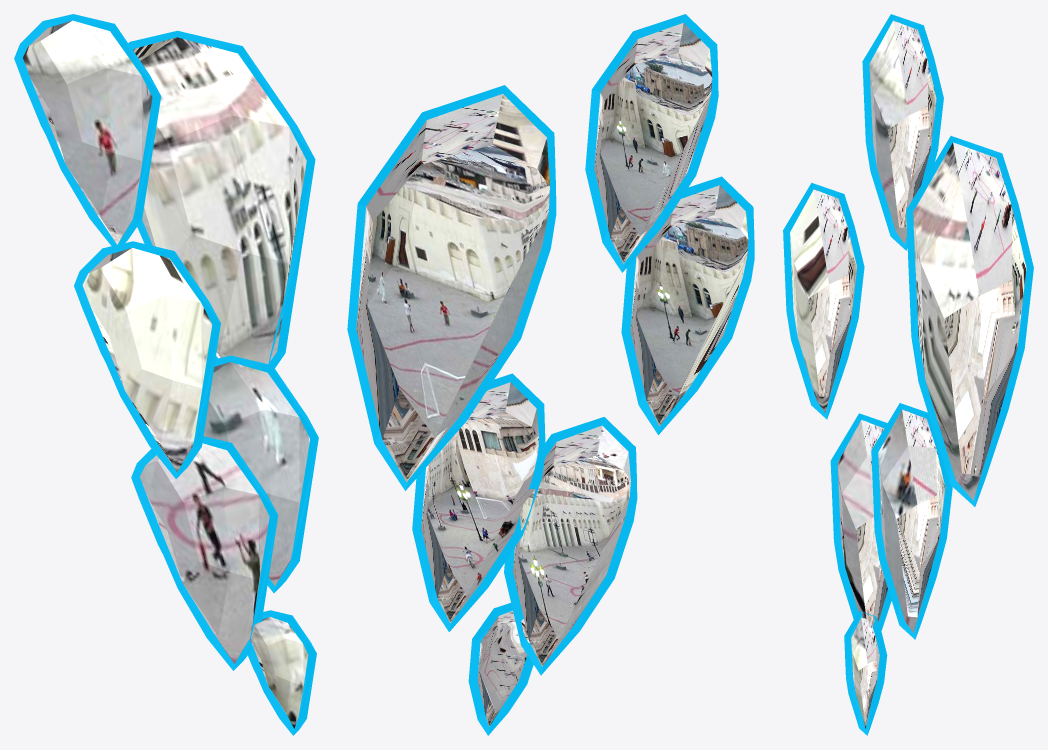
Rendered from Adaptive_Re-Use_in_Sharjah.glb.
3 renders of one model, left to right at view 1: azimuth 30°, elevation 25°; view 2: azimuth 150°, elevation 25°; view 3: azimuth 270°, elevation 25°, orthographic. The views are drawn at different scales.
Visible parts, largest first — view 1: Mona El-Mousfy.001; view 2: Mona El-Mousfy.001; view 3: Mona El-Mousfy.001.
Boxes of the visible parts, x1,y1,x2,y2 form: Mona El-Mousfy.001: (14, 14, 318, 735); Mona El-Mousfy.001: (347, 14, 754, 735); Mona El-Mousfy.001: (783, 14, 1033, 735).
Bounding box in the file's own units: 2.07 × 4.75 × 1.69.
Materials: 2 (1 with a texture image).
